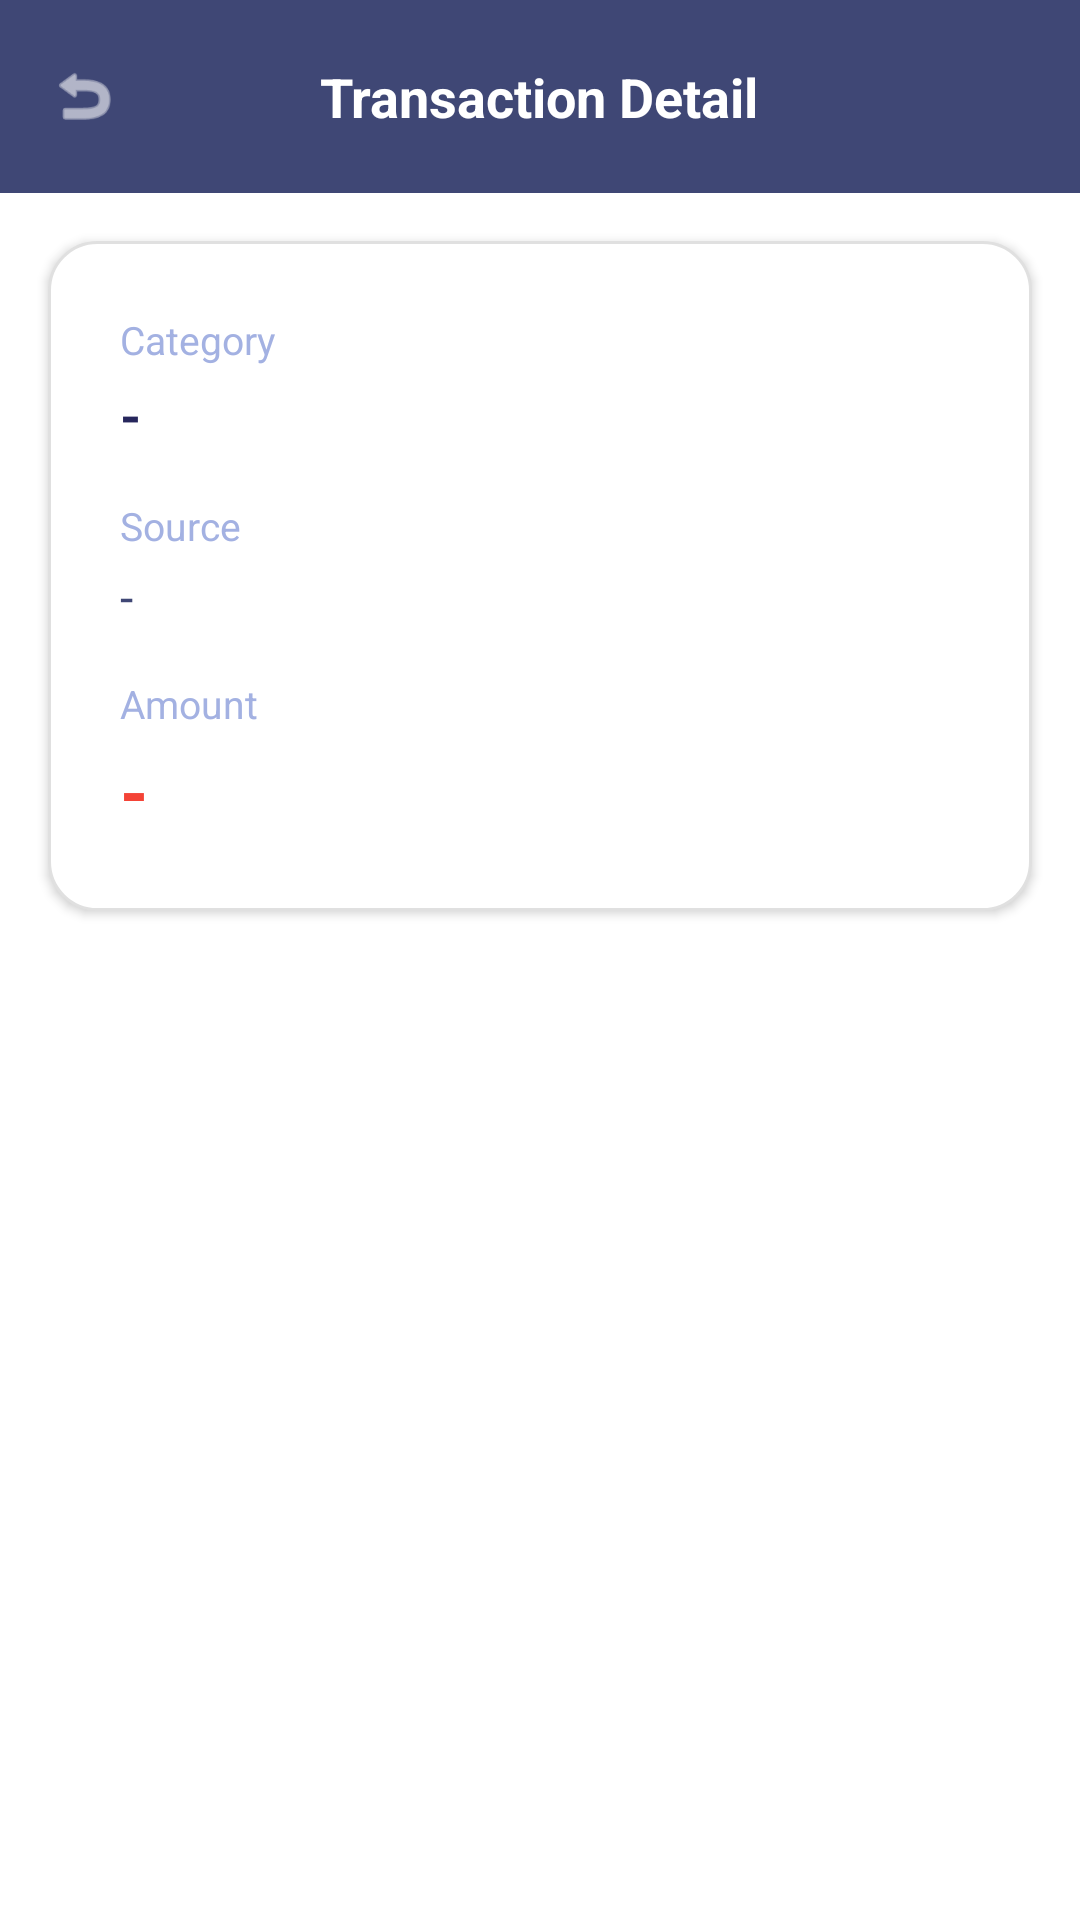

Icons on this 1080*1920 Android screen, each with the point to tap as point (x, y):
revert: point (85, 96)
